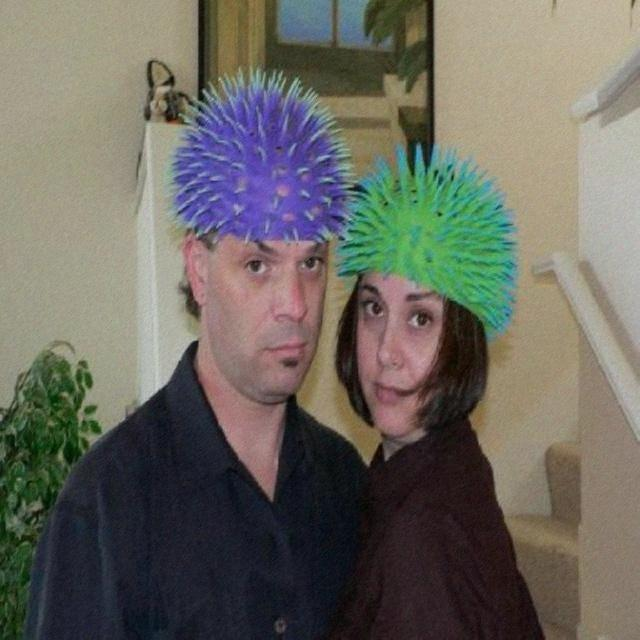stair: (506, 441, 583, 640)
